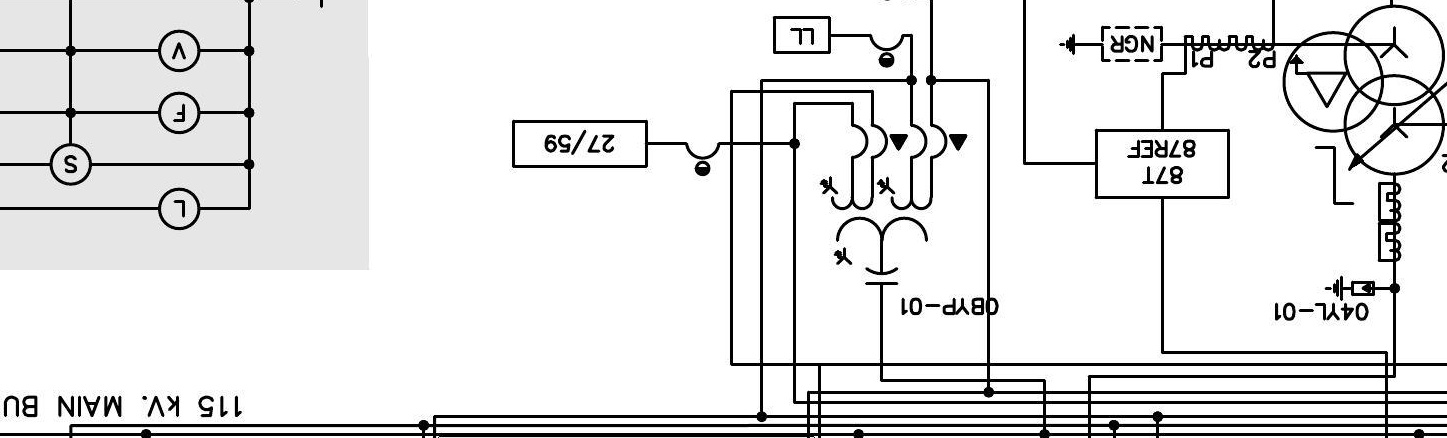11522_tx_ynyn0d1: (1281, 3, 1446, 177)
115_cvt_3p: (819, 122, 969, 286)
115_la: (1324, 275, 1376, 302)
LL: (772, 15, 832, 55)
NGR_future: (1058, 25, 1164, 62)
